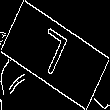L_SW: (34, 26, 76, 84)
